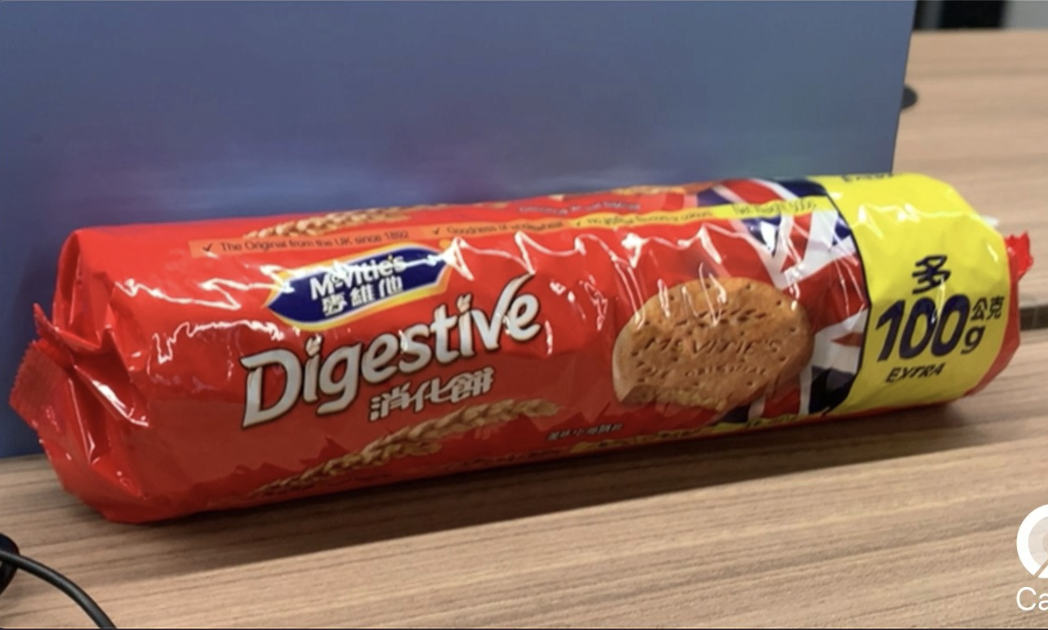cookies_500g-599g: (187, 229, 981, 397)
